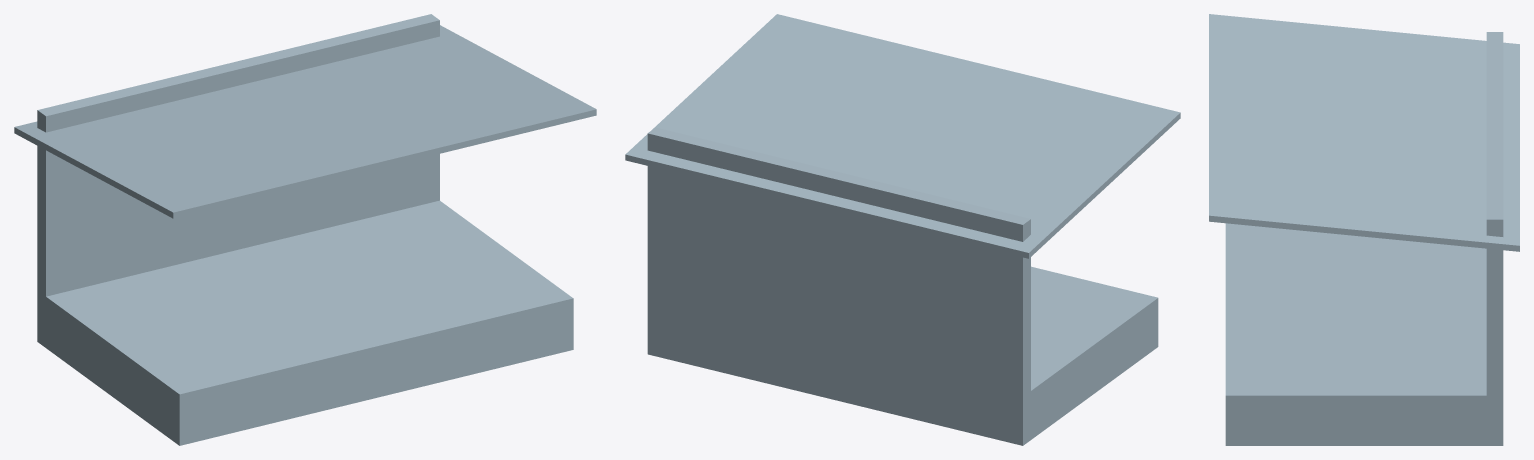
File: bo_festival_stage.fbx
3 renders of one model, left to right at view 1: azimuth 30°, elevation 25°; view 2: azimuth 150°, elevation 25°; view 3: azimuth 270°, elevation 25°, orthographic. The views are drawn at different scales.
Visible parts, largest first — view 1: bo_festival_stage; view 2: bo_festival_stage; view 3: bo_festival_stage.
Boxes of the visible parts, bbox=[...] form: bo_festival_stage: bbox=[14, 14, 596, 445]; bo_festival_stage: bbox=[625, 14, 1180, 445]; bo_festival_stage: bbox=[1209, 14, 1519, 445].
Size of the model in its own units: 8.6 by 4.72 by 5.6.
Materials: 1 (1 with a texture image).
